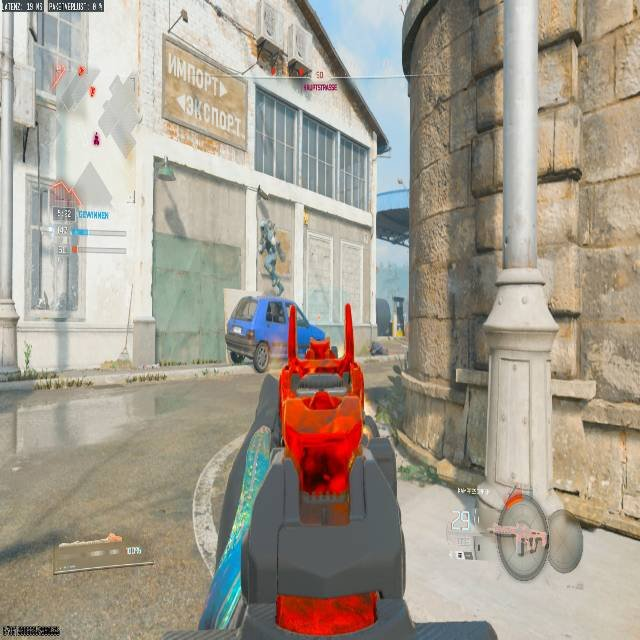player: (268, 340, 369, 492), (259, 227, 287, 294)
